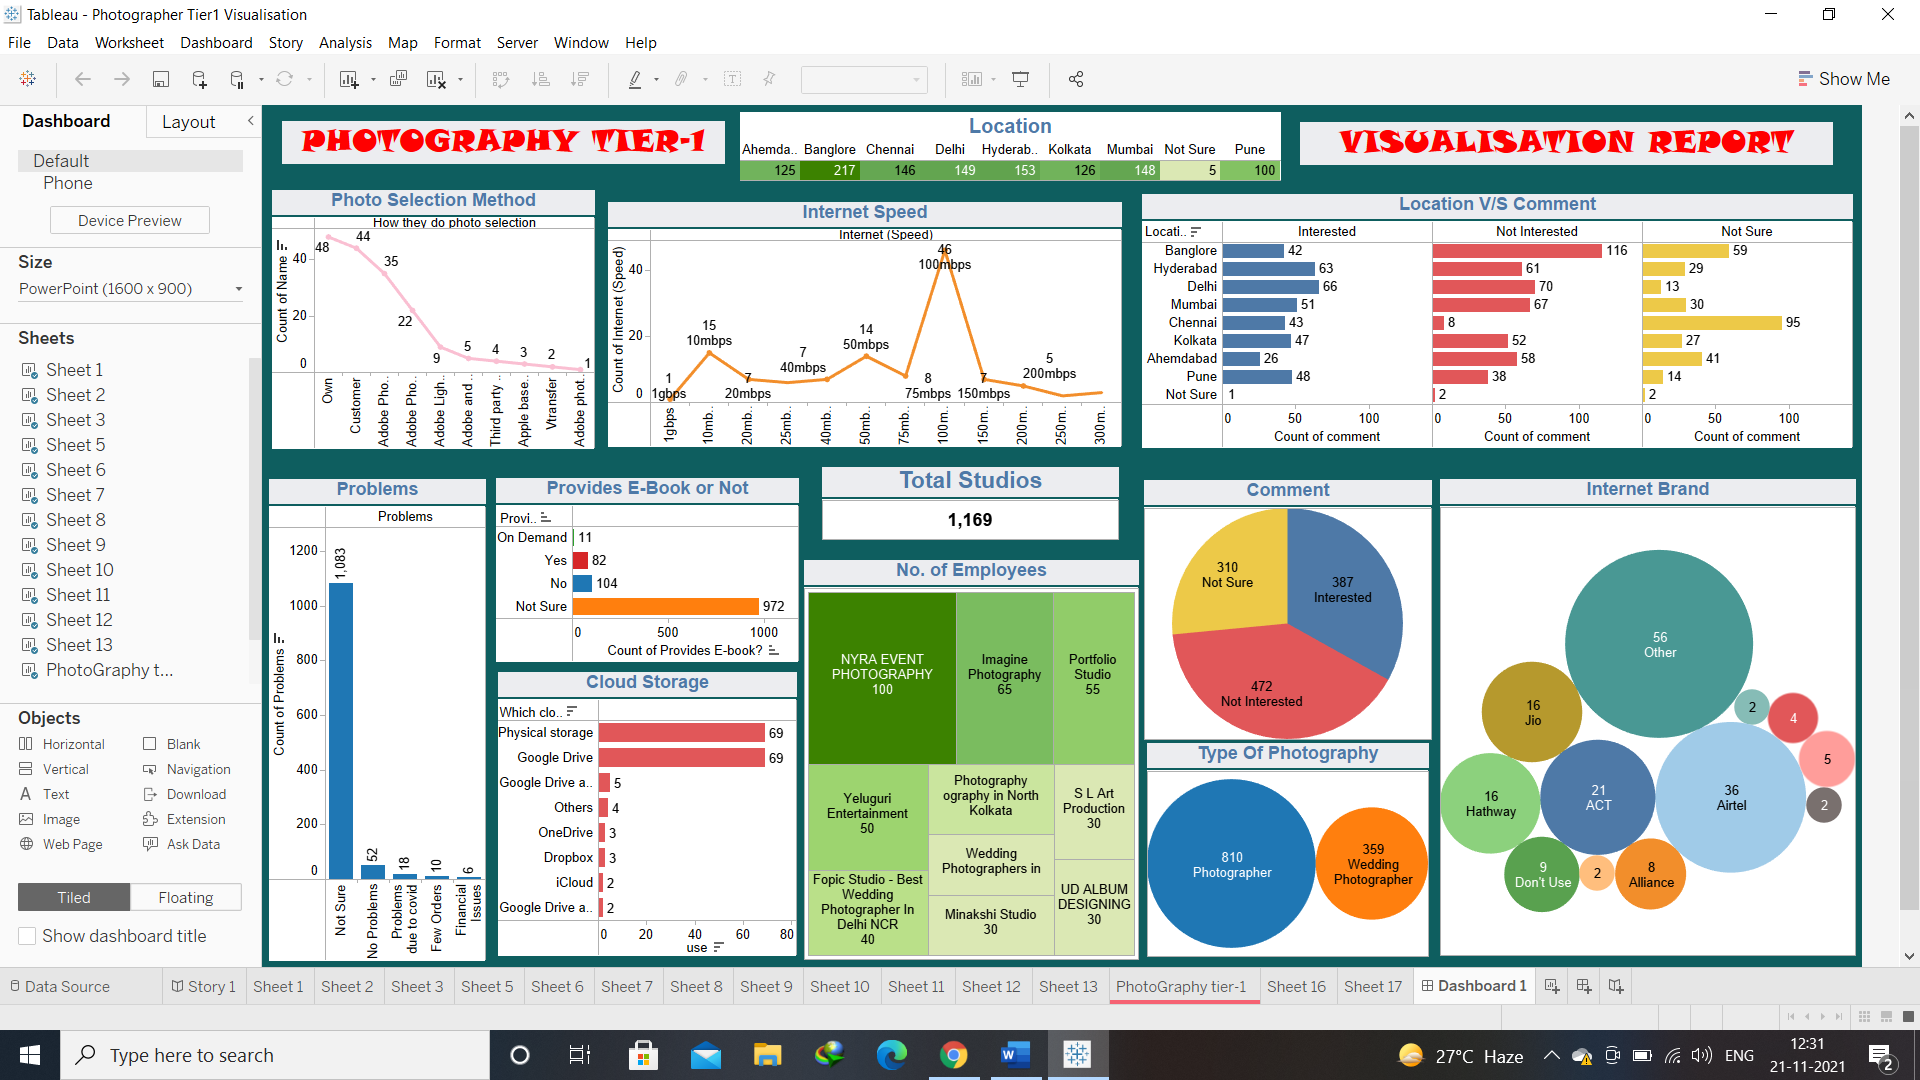

The dashboard page shown, as its layout file describes it:
{"tool":"tableau","page":{"name":"Dashboard 1","canvas":[1600,900],"ordinal":0},"visuals":[{"type":"worksheet","title":"Sheet 5","mark":"Square","cols":["Location"],"box":[478,7,545,72]},{"type":"worksheet","title":"PhotoGraphy tier-1","mark":"Automatic","box":[20,16,443,44]},{"type":"worksheet","title":"Sheet 16","mark":"Automatic","box":[1038,17,533,43]},{"type":"worksheet","title":"Sheet 13","mark":"Line","rows":["Name"],"cols":["How they do photo selection"],"box":[10,85,325,260]},{"type":"worksheet","title":"Sheet 2","mark":"Automatic","rows":["Location"],"cols":["comment","comment"],"box":[880,89,713,254]},{"type":"worksheet","title":"Sheet 12","mark":"Line","rows":["Internet (Speed)"],"cols":["Internet (Speed)"],"box":[346,97,514,245]},{"type":"worksheet","title":"Sheet 1","mark":"Automatic","box":[560,362,303,75]},{"type":"worksheet","title":"Sheet 8","mark":"Automatic","rows":["Provides E-book?"],"cols":["Provides E-book?"],"box":[234,373,303,187]},{"type":"worksheet","title":"Sheet 6","mark":"Automatic","rows":["Problems"],"cols":["Problems"],"box":[7,374,218,482]},{"type":"worksheet","title":"Sheet 3","mark":"Circle","box":[1178,374,420,477]},{"type":"worksheet","title":"Sheet 7","mark":"Pie","box":[882,375,291,261]},{"type":"worksheet","title":"Sheet 11","mark":"Automatic","box":[542,455,336,401]},{"type":"worksheet","title":"Sheet 9","mark":"Automatic","rows":["Which cloud storage they use"],"cols":["Which cloud storage they use"],"box":[236,567,302,288]},{"type":"worksheet","title":"Sheet 10","mark":"Circle","box":[885,638,284,216]}]}

Visuals, with their boxes on the page's 1600x900 design canvas (x1, y1, x2, y2). These are canvas units, not pixel positions in the 1920x1080 screenshot, which may show the page scaled, cropped or inside an application window:
"Sheet 5" worksheet (Square marks): locate(478, 7, 1023, 79)
"PhotoGraphy tier-1" worksheet: locate(20, 16, 463, 60)
"Sheet 16" worksheet: locate(1038, 17, 1571, 60)
"Sheet 13" worksheet (Line marks): locate(10, 85, 335, 345)
"Sheet 2" worksheet: locate(880, 89, 1593, 343)
"Sheet 12" worksheet (Line marks): locate(346, 97, 860, 342)
"Sheet 1" worksheet: locate(560, 362, 863, 437)
"Sheet 8" worksheet: locate(234, 373, 537, 560)
"Sheet 6" worksheet: locate(7, 374, 225, 856)
"Sheet 3" worksheet (Circle marks): locate(1178, 374, 1598, 851)
"Sheet 7" worksheet (Pie marks): locate(882, 375, 1173, 636)
"Sheet 11" worksheet: locate(542, 455, 878, 856)
"Sheet 9" worksheet: locate(236, 567, 538, 855)
"Sheet 10" worksheet (Circle marks): locate(885, 638, 1169, 854)
